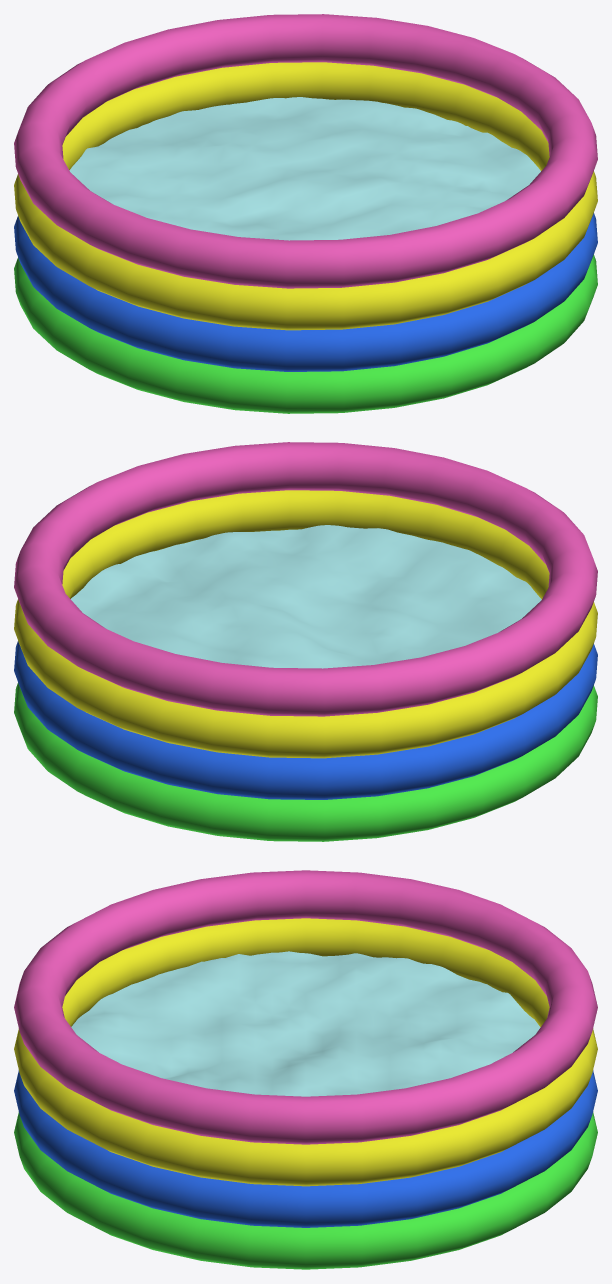
File: alberca.gltf
The picture shows the model from 3 angles, top to bottom: view 1: azimuth 30°, elevation 25°; view 2: azimuth 150°, elevation 25°; view 3: azimuth 270°, elevation 25°; orthographic projection.
Visible parts, largest first — view 1: rounds_Torus.003, Plane.001, rounds.001_Torus.000, rounds.002_Torus.004, rounds.003_Torus.005; view 2: rounds_Torus.003, Plane.001, rounds.001_Torus.000, rounds.002_Torus.004, rounds.003_Torus.005; view 3: rounds_Torus.003, Plane.001, rounds.001_Torus.000, rounds.002_Torus.004, rounds.003_Torus.005.
Part boxes in pixels (x1,y1,x2,y2): rounds_Torus.003: (14,14,597,288); Plane.001: (69,97,540,240); rounds.001_Torus.000: (14,62,597,330); rounds.002_Torus.004: (14,254,597,413); rounds.003_Torus.005: (14,213,597,371); rounds_Torus.003: (14,442,597,716); Plane.001: (71,525,541,668); rounds.001_Torus.000: (14,490,597,758); rounds.002_Torus.004: (14,682,597,841); rounds.003_Torus.005: (14,641,597,799); rounds_Torus.003: (14,870,597,1144); Plane.001: (71,951,540,1096); rounds.001_Torus.000: (14,918,597,1186); rounds.002_Torus.004: (14,1112,597,1269); rounds.003_Torus.005: (14,1070,597,1227).
Bounding box in the file's own units: 3.49 × 1.1 × 3.49.
